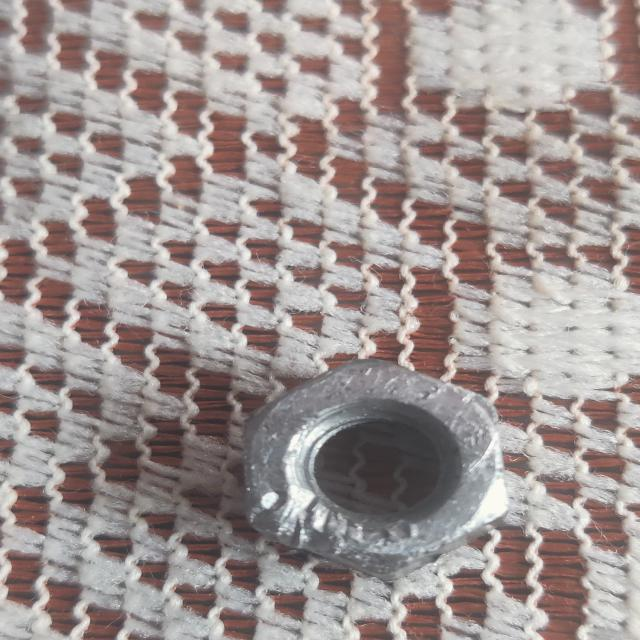infected nut: (243, 360, 507, 580)
